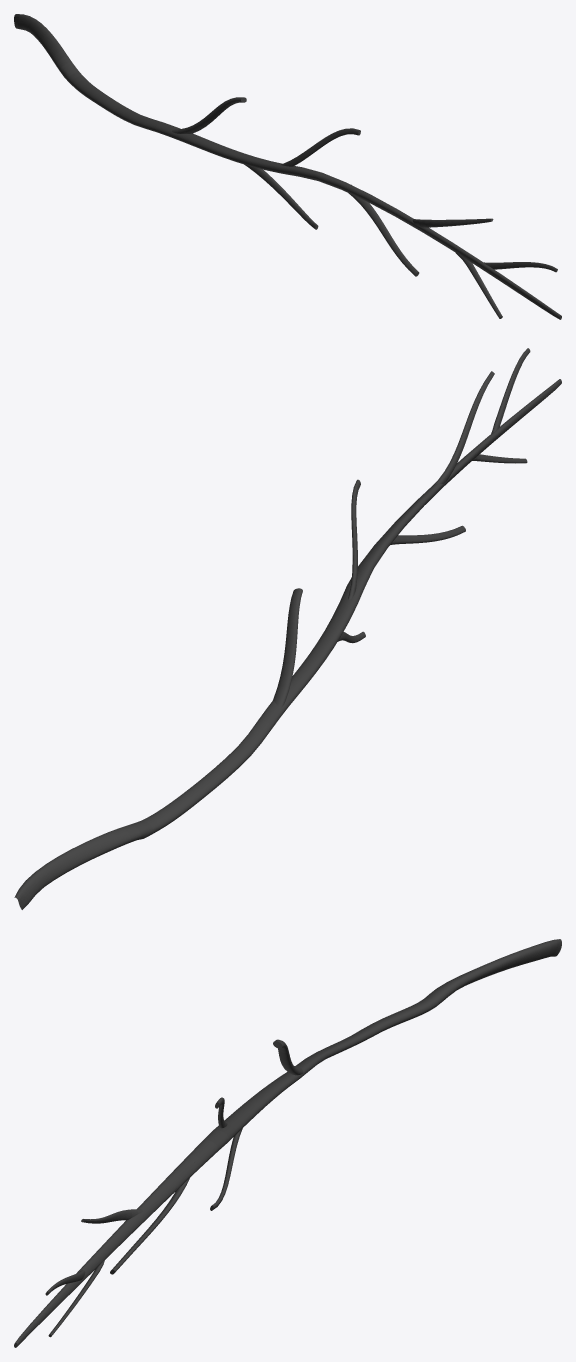
The model's file is N_7_facial_internal_auricular.glb.
3 renders of one model, top to bottom at view 1: azimuth 30°, elevation 25°; view 2: azimuth 150°, elevation 25°; view 3: azimuth 330°, elevation 25°, orthographic. The views are drawn at different scales.
Visible parts, largest first — view 1: N_7_facial_internal_auricular; view 2: N_7_facial_internal_auricular; view 3: N_7_facial_internal_auricular.
Boxes of the visible parts, bbox=[...] form: N_7_facial_internal_auricular: bbox=[14, 14, 561, 319]; N_7_facial_internal_auricular: bbox=[14, 348, 561, 909]; N_7_facial_internal_auricular: bbox=[14, 939, 561, 1347].
Bounding box in the file's own units: 0.0053 × 0.00578 × 0.0448.
Materials: 1 (1 with a texture image).
